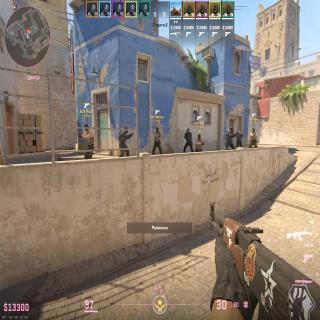CT-Body: (118, 126, 128, 156), (224, 126, 234, 150), (184, 128, 192, 152), (236, 130, 243, 147)
CT-Head: (124, 126, 128, 133), (230, 126, 233, 132), (187, 129, 190, 132), (239, 130, 241, 133)
T-Body: (83, 124, 94, 160), (154, 128, 161, 154), (250, 128, 258, 148), (195, 134, 203, 151)
T-Head: (84, 124, 89, 130), (197, 134, 201, 140), (156, 128, 159, 132), (253, 128, 255, 133)
